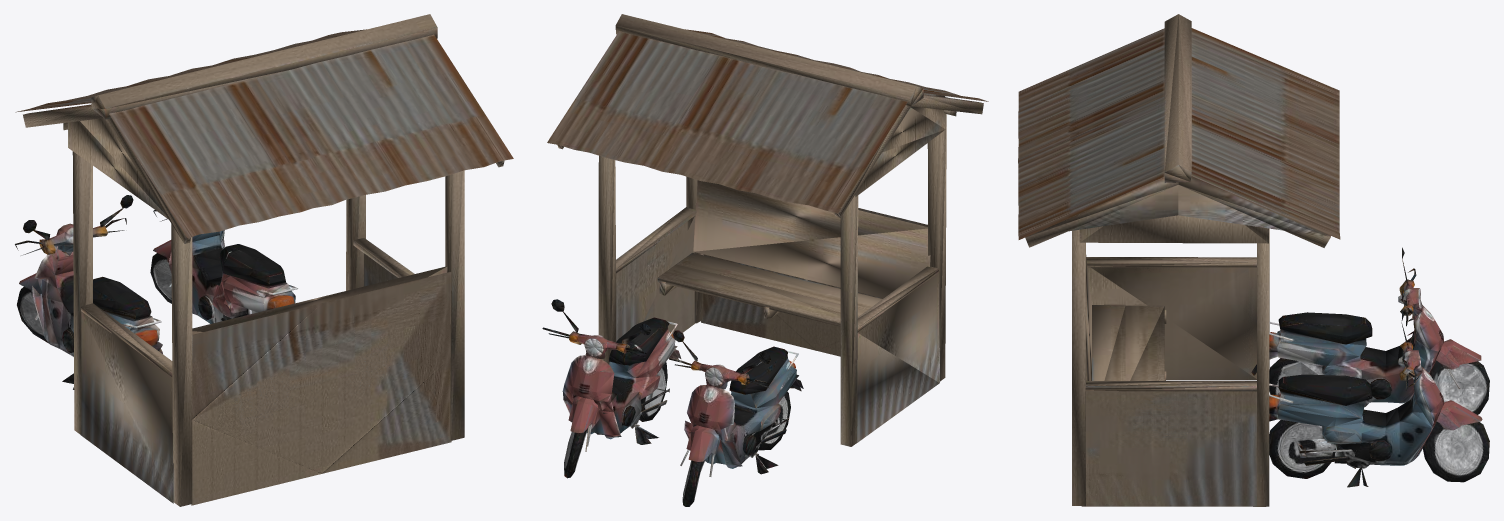
File: moto_stand.glb
3 views of the same model, side by side, from view 1: azimuth 30°, elevation 25°; view 2: azimuth 150°, elevation 25°; view 3: azimuth 270°, elevation 25° (orthographic). The views are drawn at different scales.
Parts seen in each view (by area): view 1: Prop_moto_stand; view 2: Prop_moto_stand; view 3: Prop_moto_stand.
Part boxes in pixels (x1,y1,x2,y2): Prop_moto_stand: (15, 14, 513, 506); Prop_moto_stand: (542, 14, 988, 506); Prop_moto_stand: (1018, 14, 1489, 506).
Size of the model in its own units: 1.97 by 2.19 by 2.6.
Materials: 1 (1 with a texture image).
